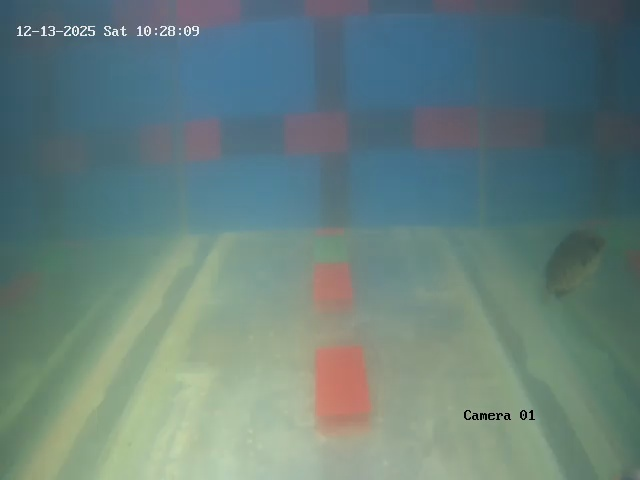fish: (541, 220, 602, 294)
